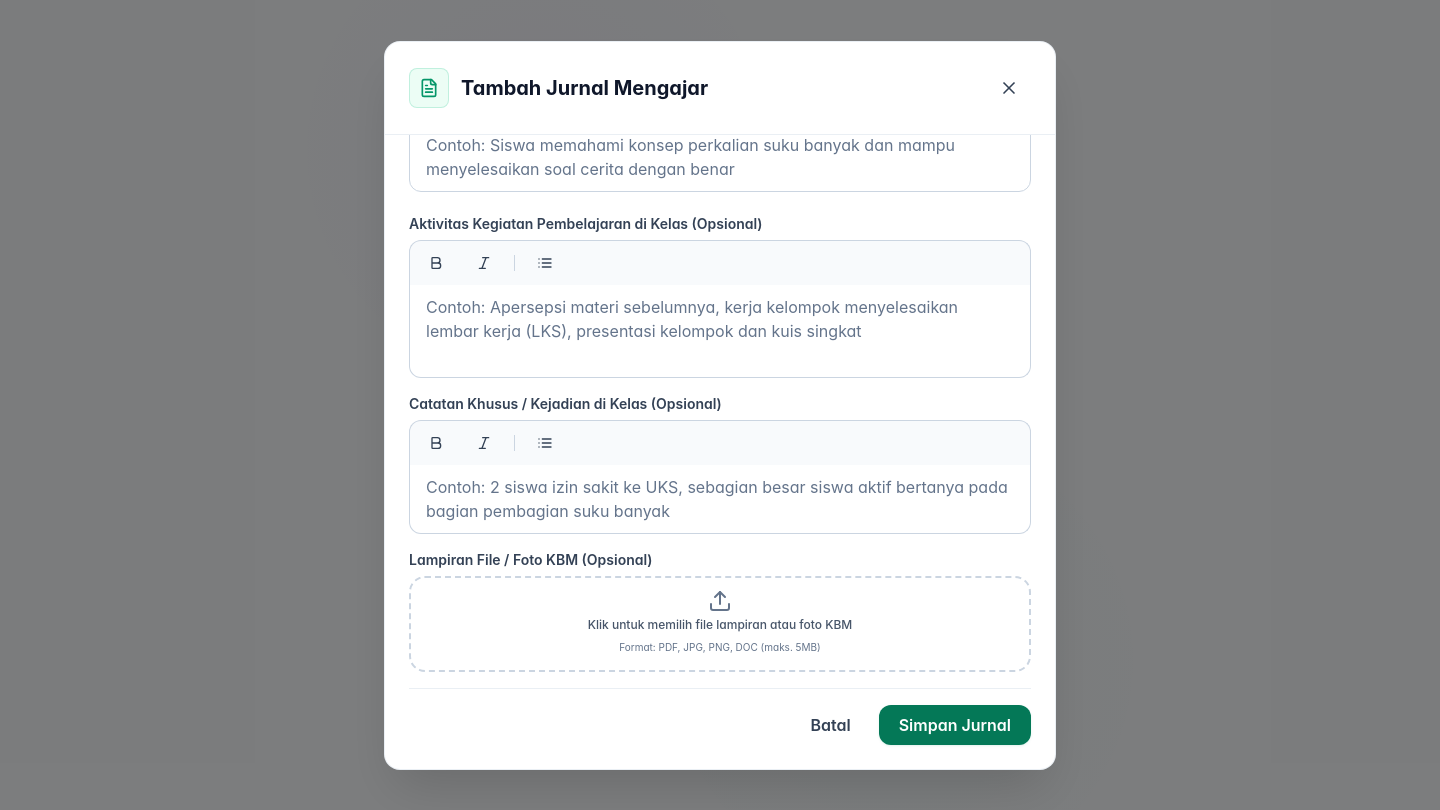
Test: JournalForm Validation › shows validation errors when required fields are empty
(page scrolled)
Note: Default values are already empty, so we just submit
Click the button "Simpan Jurnal" at [955, 724], box [879,704,1031,744]
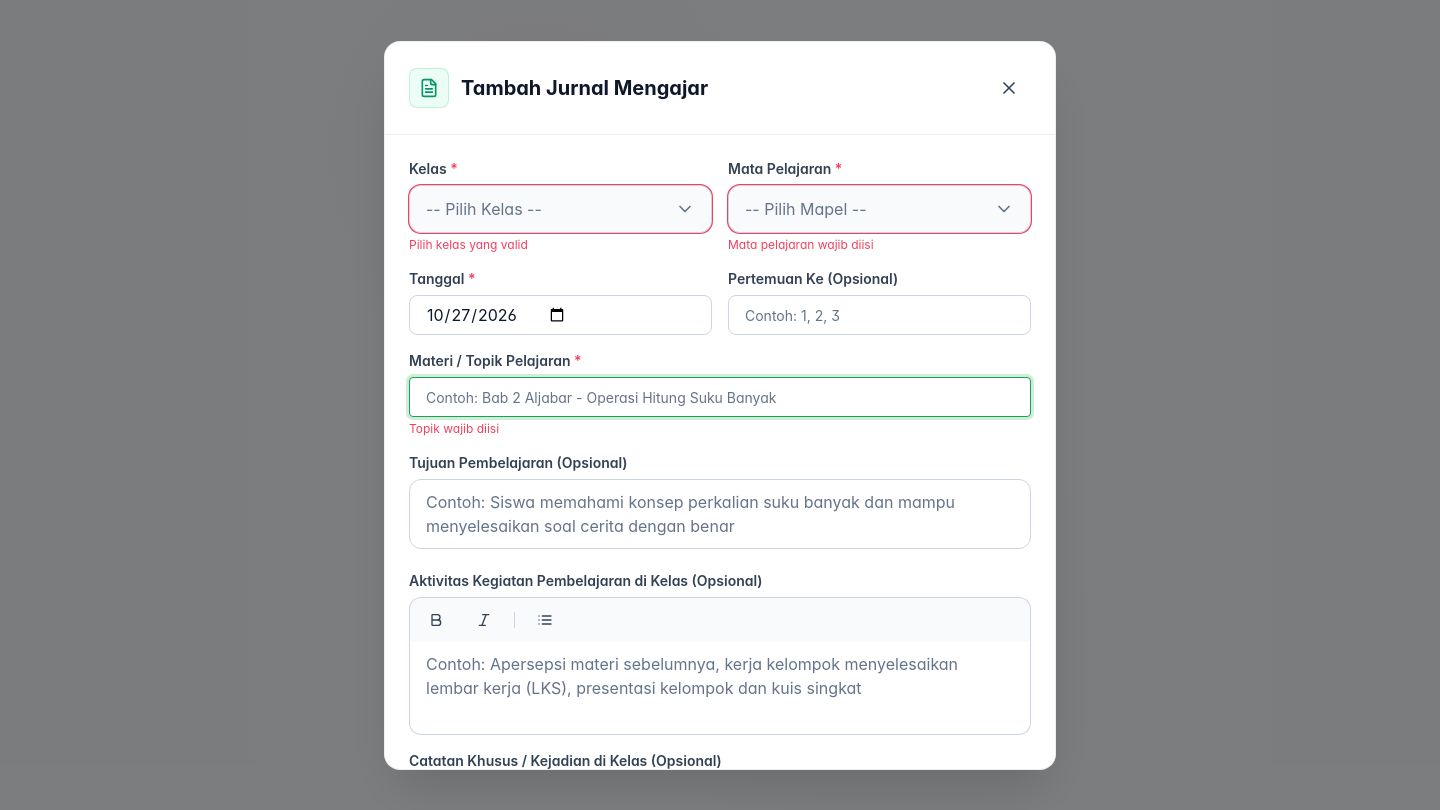
Expected: the text "Pilih kelas yang valid" is shown, [409,236,528,252]
Expected: the text "Mata pelajaran wajib diisi" is shown, [728,236,874,252]
Expected: the text "Topik wajib diisi" is shown, [409,420,499,436]
